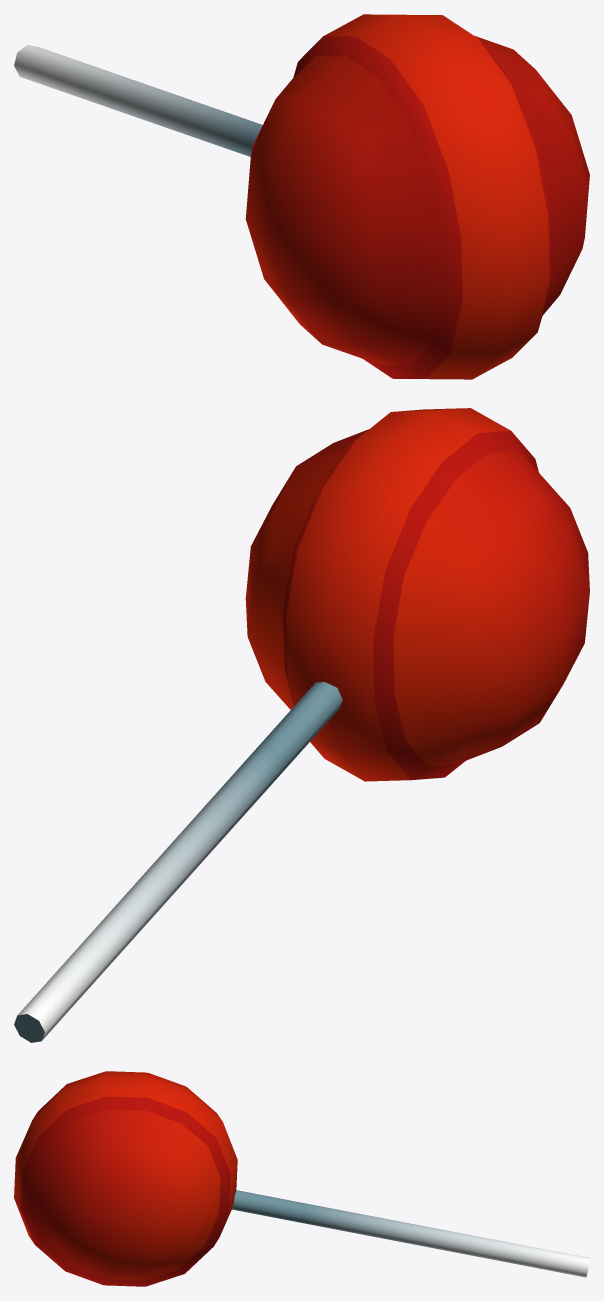
The model's file is Lollipop_Bump.fbx.
3 renders of one model, top to bottom at view 1: azimuth 30°, elevation 25°; view 2: azimuth 150°, elevation 25°; view 3: azimuth 270°, elevation 25°, orthographic. The views are drawn at different scales.
Parts seen in each view (by area): view 1: Lollipop_Bump; view 2: Lollipop_Bump; view 3: Lollipop_Bump.
Part boxes in pixels (x1,y1,x2,y2): Lollipop_Bump: (14,14,589,379); Lollipop_Bump: (14,408,589,1042); Lollipop_Bump: (14,1071,589,1286).
Size of the model in its own units: 13.09 by 14.36 by 36.96.
